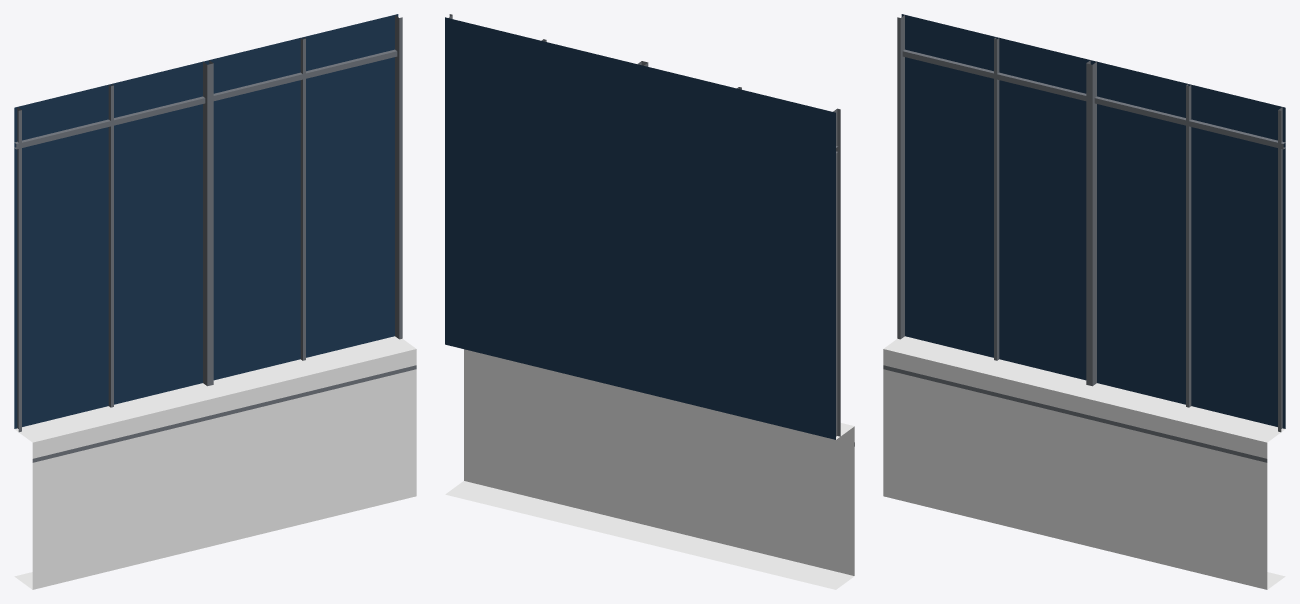
The model's file is mid-w1_close.fbx.
3 views of the same model, side by side, from view 1: azimuth 30°, elevation 25°; view 2: azimuth 150°, elevation 25°; view 3: azimuth 330°, elevation 25° (orthographic).
Visible parts, largest first — view 1: a2002/400/mid-w1_close; view 2: a2002/400/mid-w1_close; view 3: a2002/400/mid-w1_close.
Part boxes in pixels (bbox=[...]): a2002/400/mid-w1_close: bbox=[14, 14, 416, 589]; a2002/400/mid-w1_close: bbox=[445, 14, 854, 589]; a2002/400/mid-w1_close: bbox=[883, 14, 1285, 589].
Size of the model in its own units: 3 by 3.5 by 0.252.
